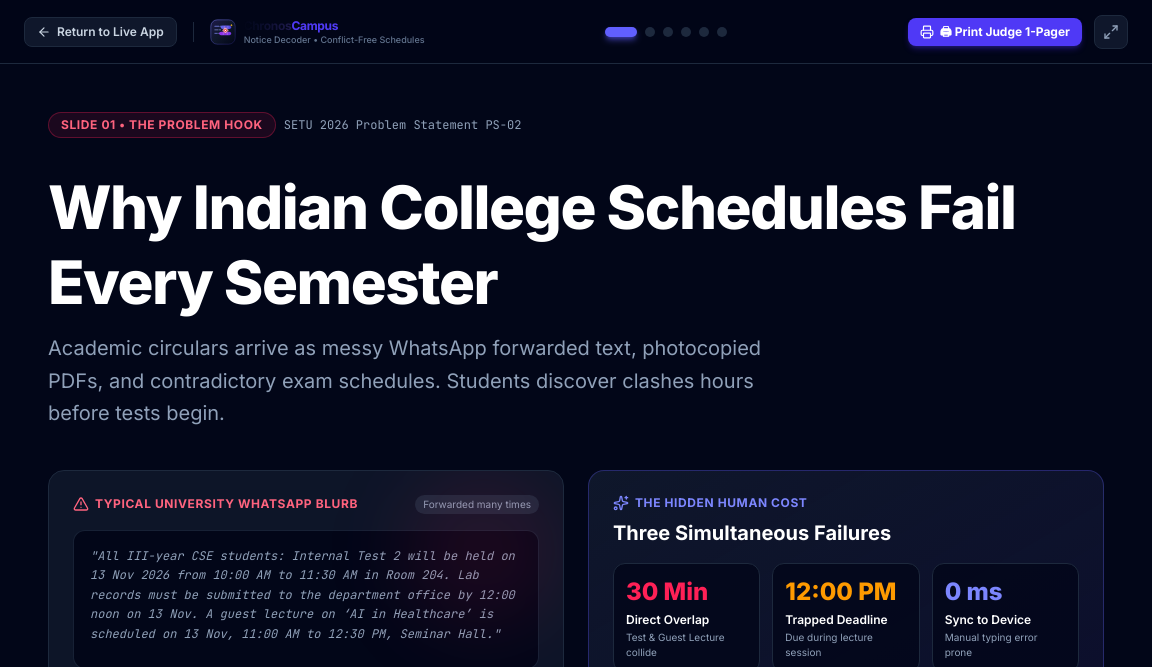
Test: PitchDeckPage — In-App Pitch Mode & Judge 1-Pager › operates the live embedded widget on Slide 2 and dynamically resolves clashes
This screenshot has width=1152, height=667.
Note: Go to Slide 2
Press ArrowRight
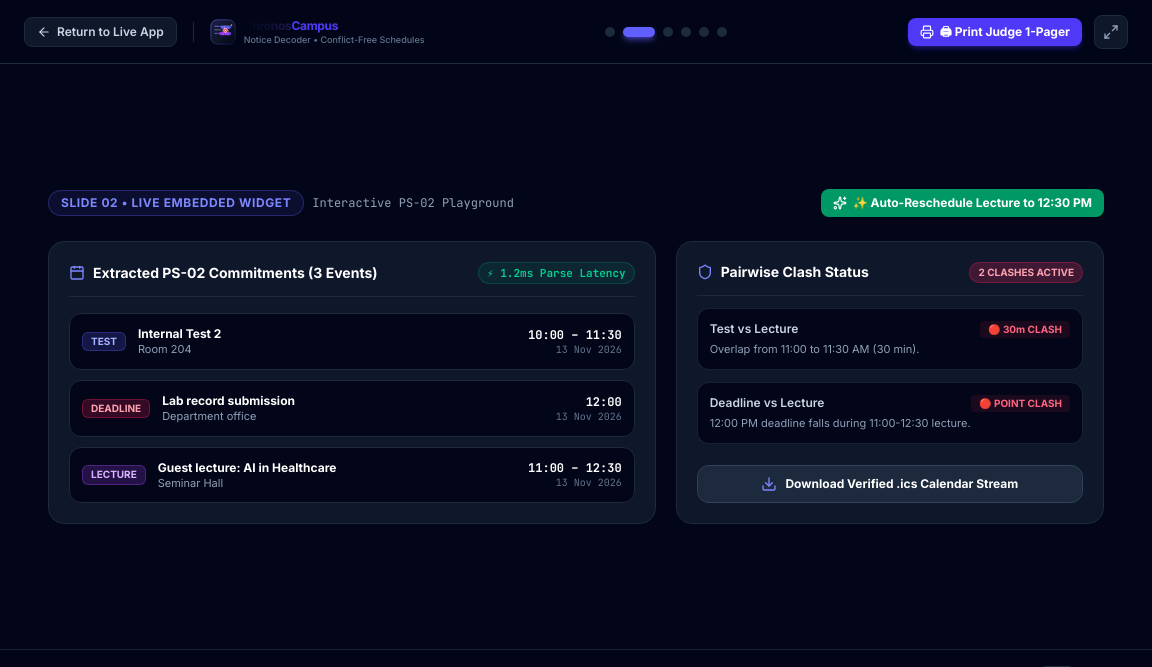
Result: the text "2 Clashes Active" is shown at [970,262,1083,283]
Note: Click auto-reschedule button
Click the button "✨ Auto-Reschedule Lecture to 12:30 PM" at (962, 203), box [821,189,1104,217]
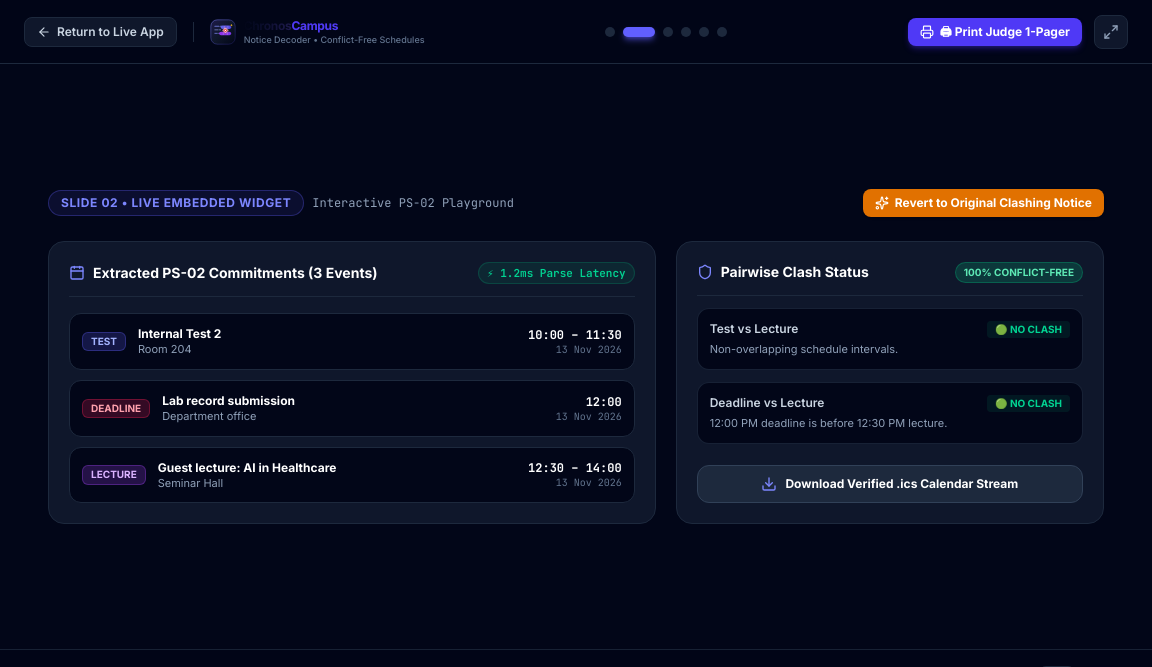
Result: the text "100% Conflict-Free" is shown at [955,262,1083,283]
Result: the text "🟢 NO CLASH" in the row of "Test vs Lecture" is shown at [995,323,1062,335]
